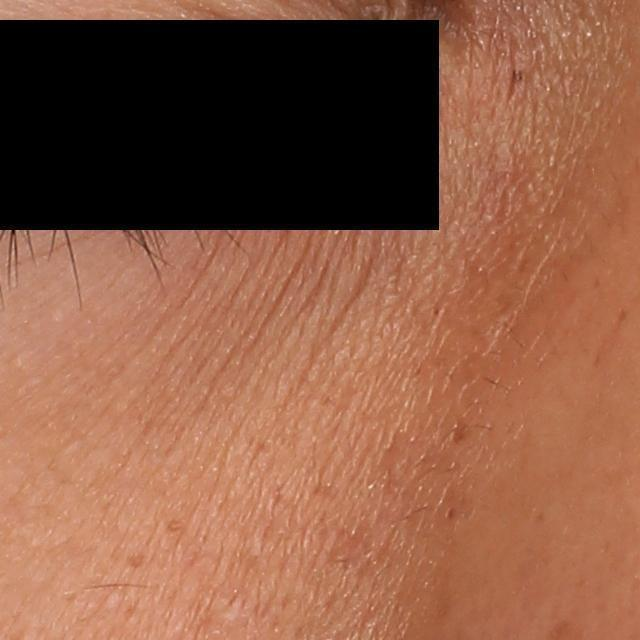comedo: (442, 504, 459, 524)
